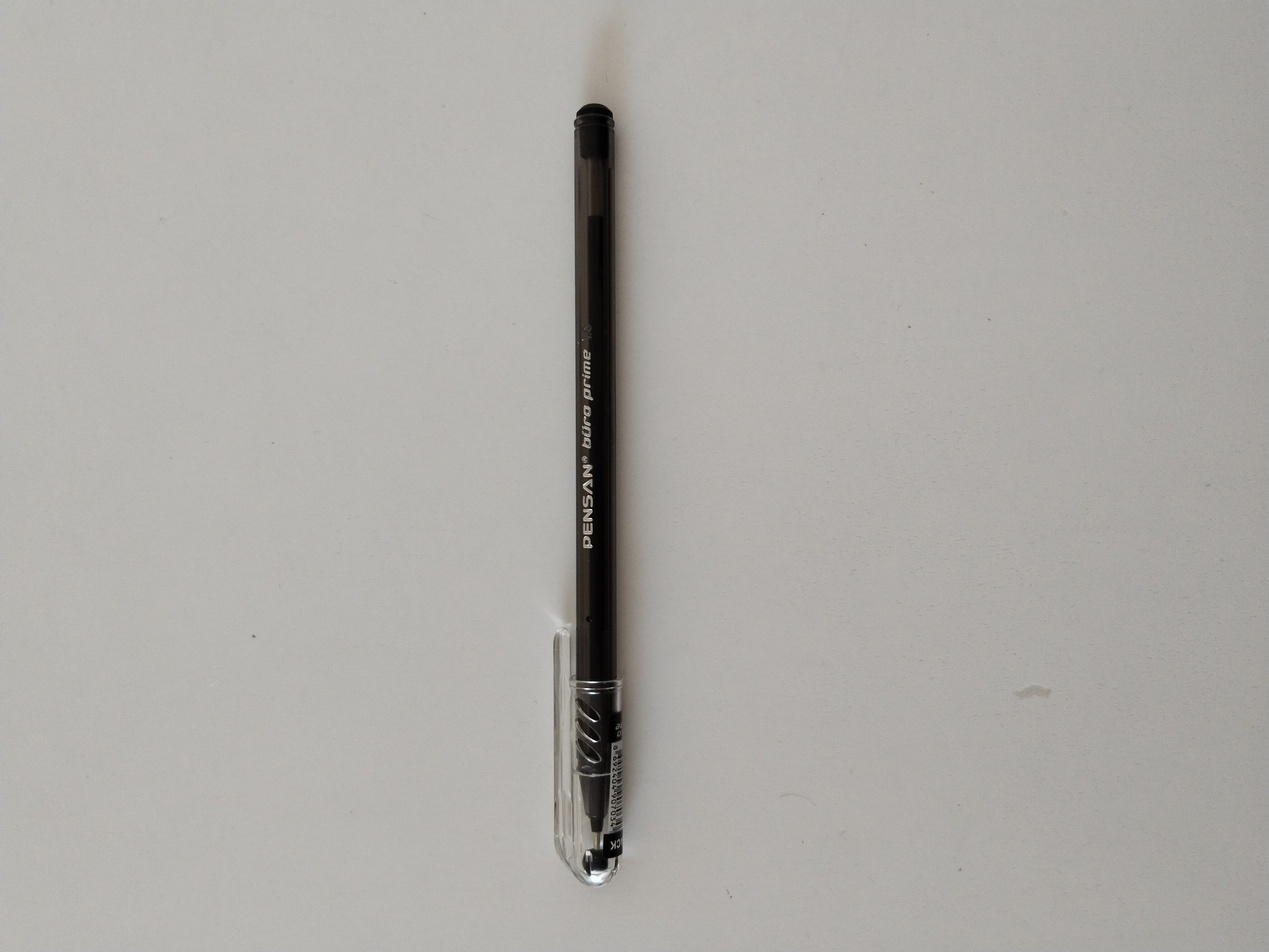pensan_siyah_tukenmez_kalem: (555, 105, 618, 887)
